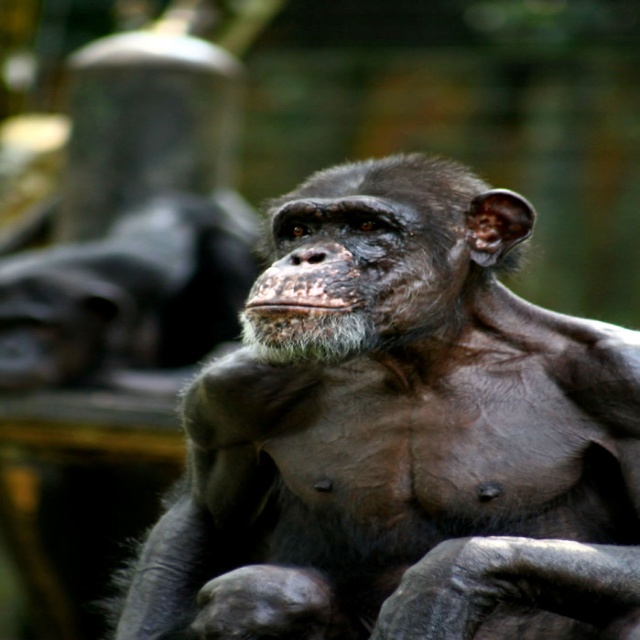Monkey: (103, 163, 628, 640)
